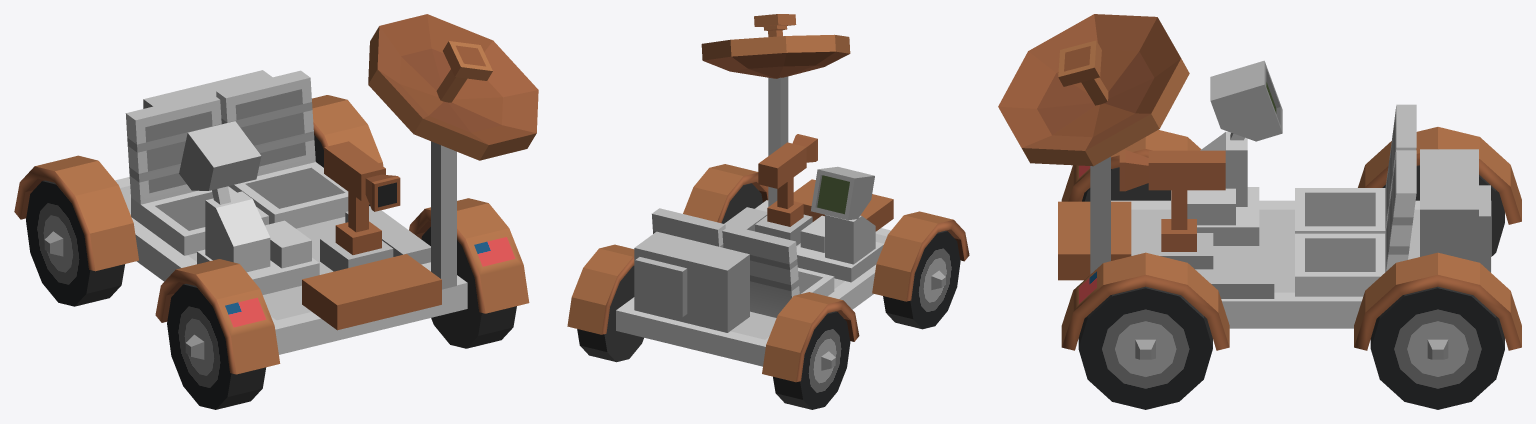
The model's file is SM_Veh_Buggy_01.fbx.
The picture shows the model from 3 angles, left to right: view 1: azimuth 30°, elevation 25°; view 2: azimuth 150°, elevation 25°; view 3: azimuth 270°, elevation 25°; orthographic projection. The views are drawn at different scales.
Parts seen in each view (by area): view 1: SM_Veh_Buggy_01, SM_Veh_Buggy_Wheel_RR, SM_Veh_Buggy_Wheel_FR, SM_Veh_Buggy_Wheel_FL; view 2: SM_Veh_Buggy_01, SM_Veh_Buggy_Wheel_RR, SM_Veh_Buggy_Wheel_FR, SM_Veh_Buggy_Wheel_RL, SM_Veh_Buggy_Wheel_FL; view 3: SM_Veh_Buggy_01, SM_Veh_Buggy_Wheel_FL, SM_Veh_Buggy_Wheel_RL, SM_Veh_Buggy_Wheel_FR, SM_Veh_Buggy_Wheel_RR.
Part boxes in pixels (x1,y1,x2,y2): SM_Veh_Buggy_01: [14, 14, 538, 374]; SM_Veh_Buggy_Wheel_RR: [26, 180, 124, 306]; SM_Veh_Buggy_Wheel_FR: [167, 283, 266, 409]; SM_Veh_Buggy_Wheel_FL: [421, 227, 516, 348]; SM_Veh_Buggy_01: [567, 14, 969, 382]; SM_Veh_Buggy_Wheel_RR: [773, 311, 850, 409]; SM_Veh_Buggy_Wheel_FR: [883, 230, 960, 329]; SM_Veh_Buggy_Wheel_RL: [577, 265, 643, 362]; SM_Veh_Buggy_Wheel_FL: [721, 183, 762, 223]; SM_Veh_Buggy_01: [998, 14, 1521, 350]; SM_Veh_Buggy_Wheel_FL: [1078, 286, 1212, 409]; SM_Veh_Buggy_Wheel_RL: [1370, 286, 1504, 409]; SM_Veh_Buggy_Wheel_FR: [1082, 167, 1170, 201]; SM_Veh_Buggy_Wheel_RR: [1382, 165, 1504, 256].
Size of the model in its own units: 4.03 by 3.96 by 5.5.
